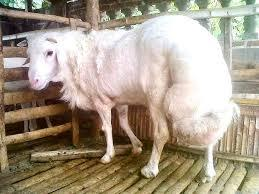Sheep: (17, 23, 101, 109)
